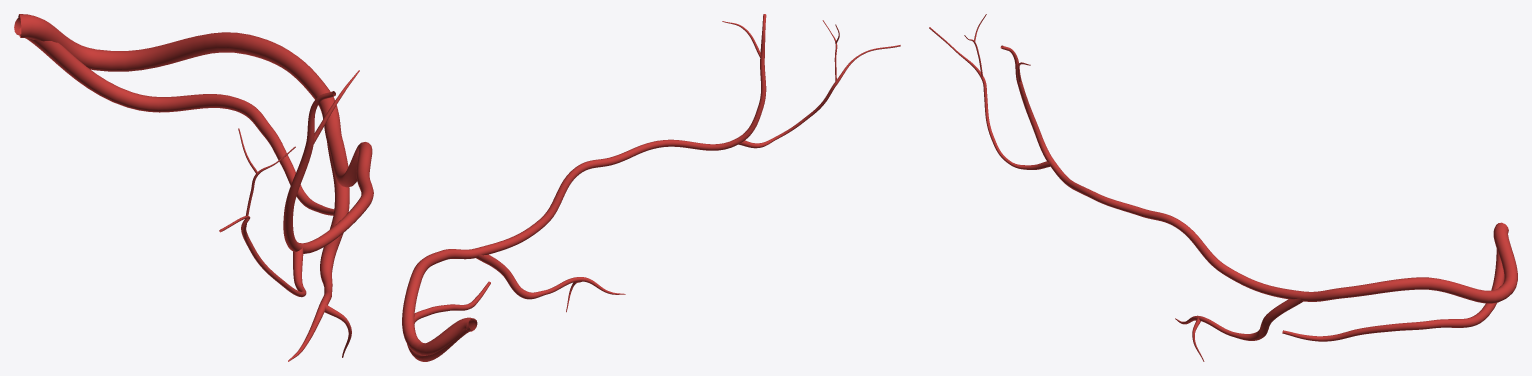
3 renders of one model, left to right at view 1: azimuth 30°, elevation 25°; view 2: azimuth 150°, elevation 25°; view 3: azimuth 270°, elevation 25°, orthographic. The views are drawn at different scales.
Visible parts, largest first — view 1: 左侧中央前沟动脉; view 2: 左侧中央前沟动脉; view 3: 左侧中央前沟动脉.
Boxes of the visible parts, x1,y1,x2,y2 form: 左侧中央前沟动脉: (14,14,373,361); 左侧中央前沟动脉: (402,14,900,361); 左侧中央前沟动脉: (929,14,1517,361).
Bounding box in the file's own units: 0.0567 × 0.0518 × 0.1046.
